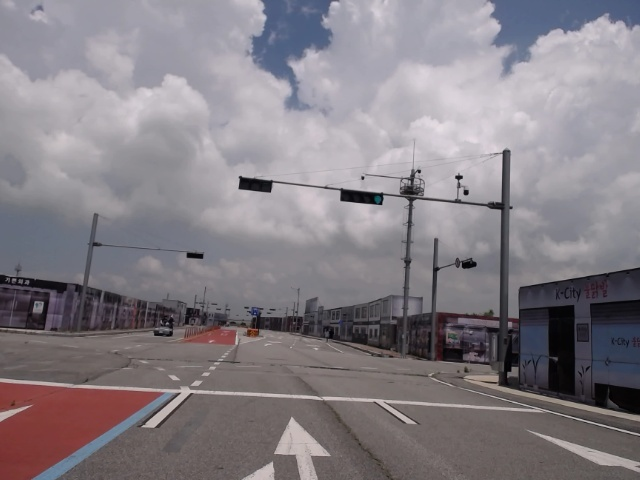straight_green_4: (342, 189, 382, 205)
